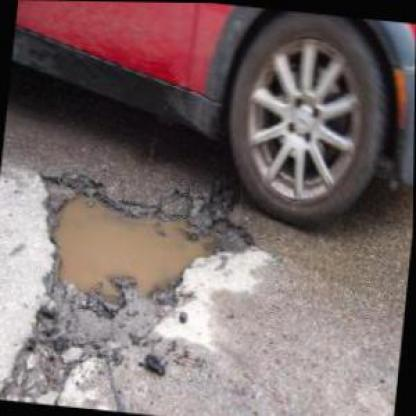pothole: (25, 164, 262, 316)
